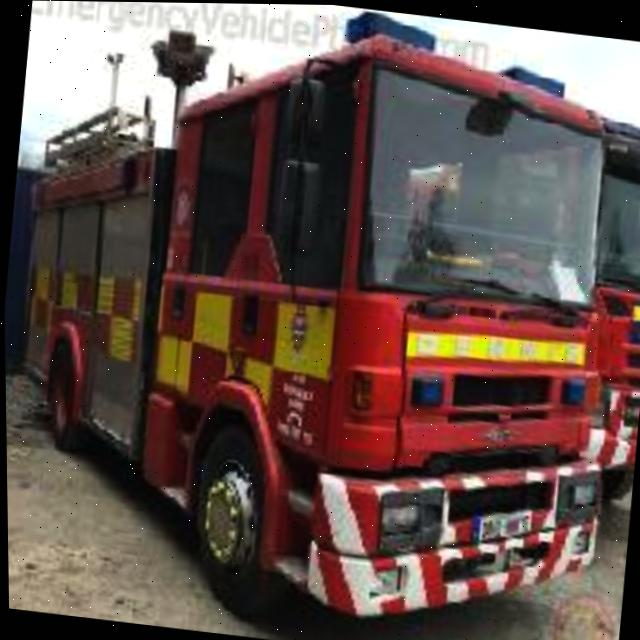emergency: (0, 0, 640, 640), (410, 89, 640, 522)
